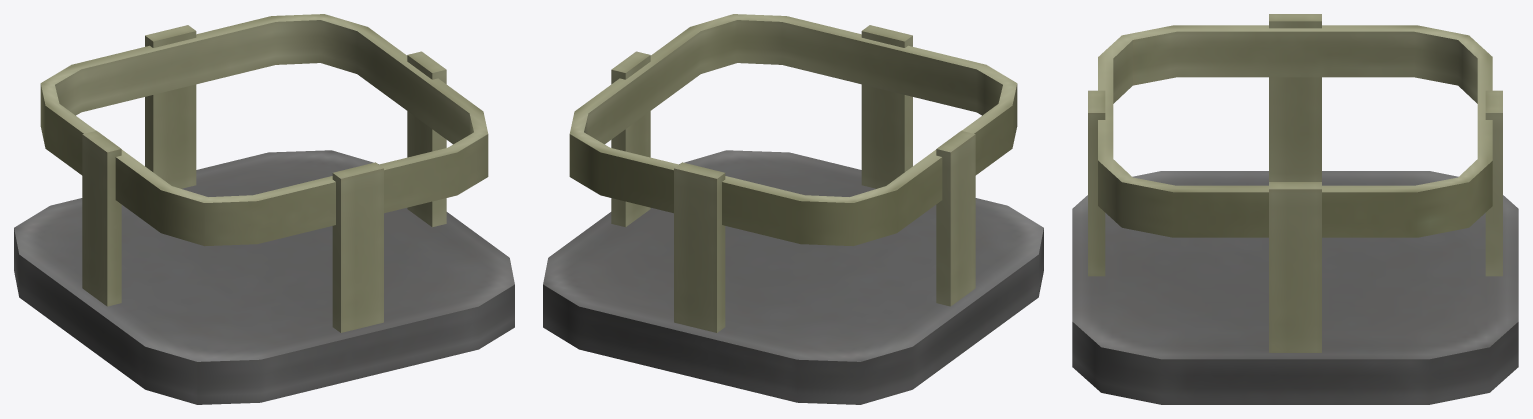
The model's file is Barrel_Stand.FBX.
3 renders of one model, left to right at view 1: azimuth 30°, elevation 25°; view 2: azimuth 150°, elevation 25°; view 3: azimuth 270°, elevation 25°, orthographic. The views are drawn at different scales.
Visible parts, largest first — view 1: Barrel_Stand; view 2: Barrel_Stand; view 3: Barrel_Stand.
Boxes of the visible parts, box(x1,y1,x2,y2) form: Barrel_Stand: box(14, 14, 514, 404); Barrel_Stand: box(543, 14, 1043, 404); Barrel_Stand: box(1072, 14, 1518, 404).
Bounding box in the file's own units: 304 × 157 × 304.
